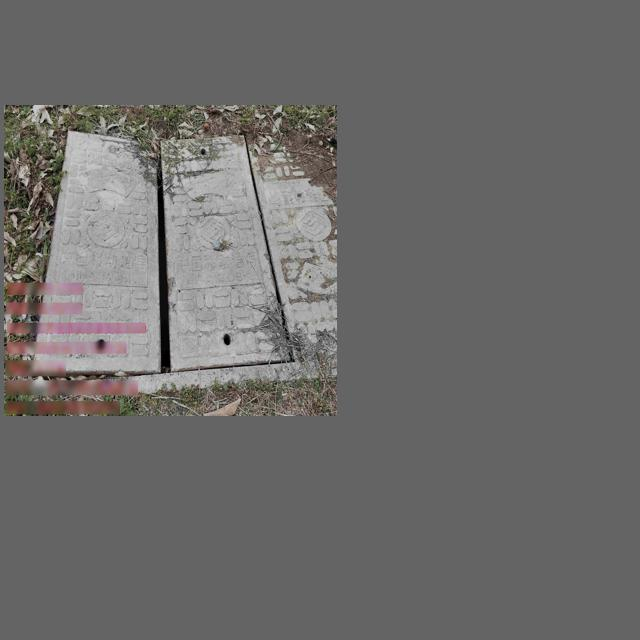uncovered: (38, 121, 261, 371)
